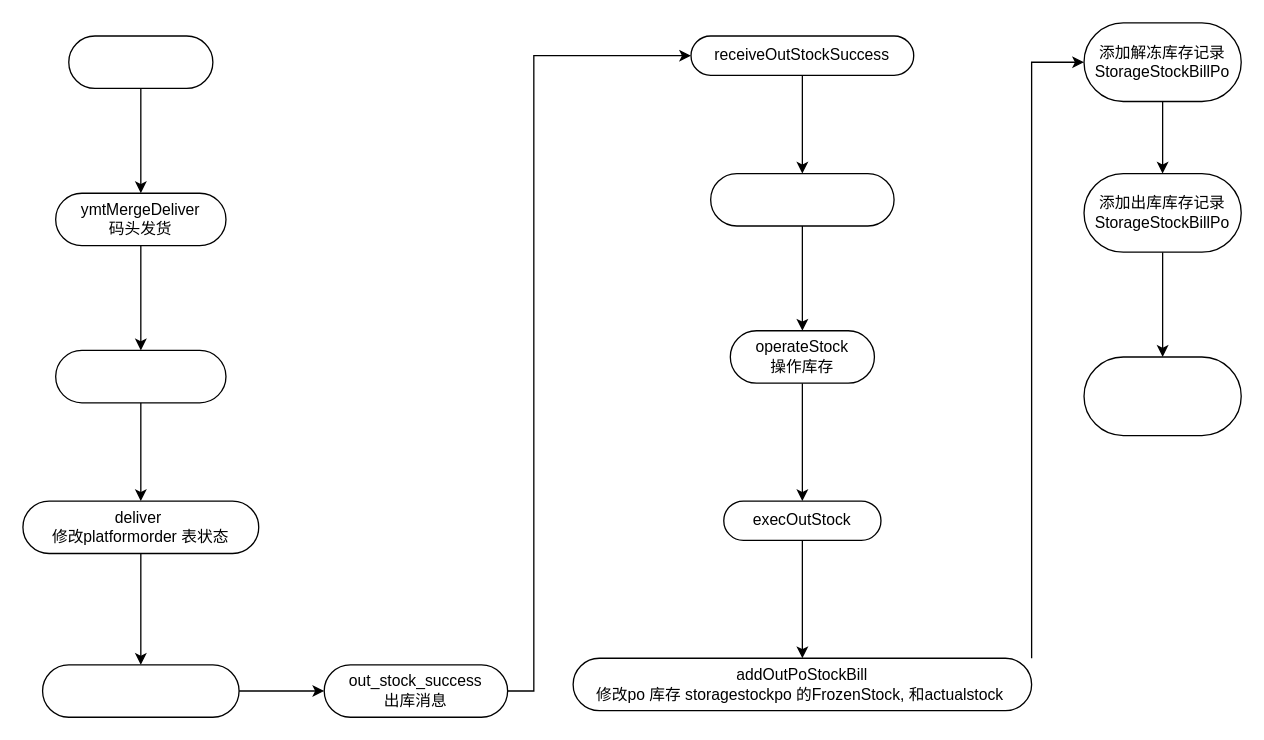
The diagram is 1264 pixels wide and 740 high, and some of its shapes have lost their labels. Each missing label, with the centre of its shape:
"b2bMergeDeliver b2b发货" goes at [140,376].
"importDeliver 导入发货" goes at [140,61].
"subscribeexpressinfo 订阅流水" goes at [140,690].
"获取出库单 ScmStorageBillPo" goes at [801,199].
"解冻聚合库存 unfreezeSumStock FrozenStock ActualStock" goes at [1162,396].
